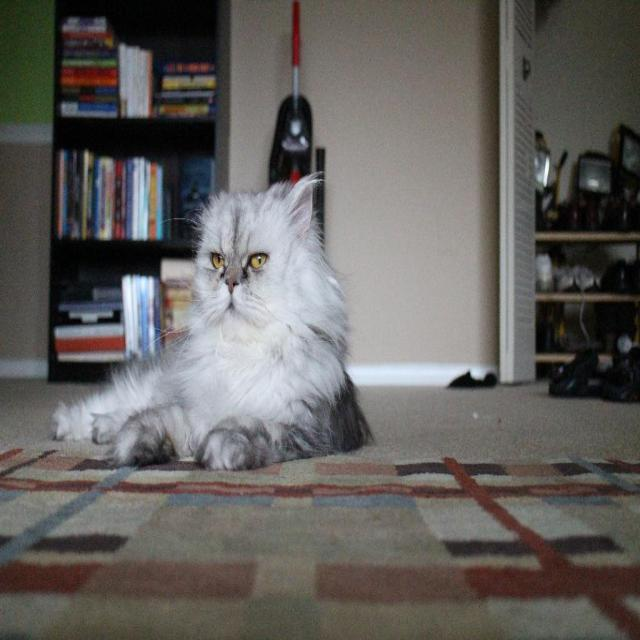Cat: (50, 170, 376, 472)
